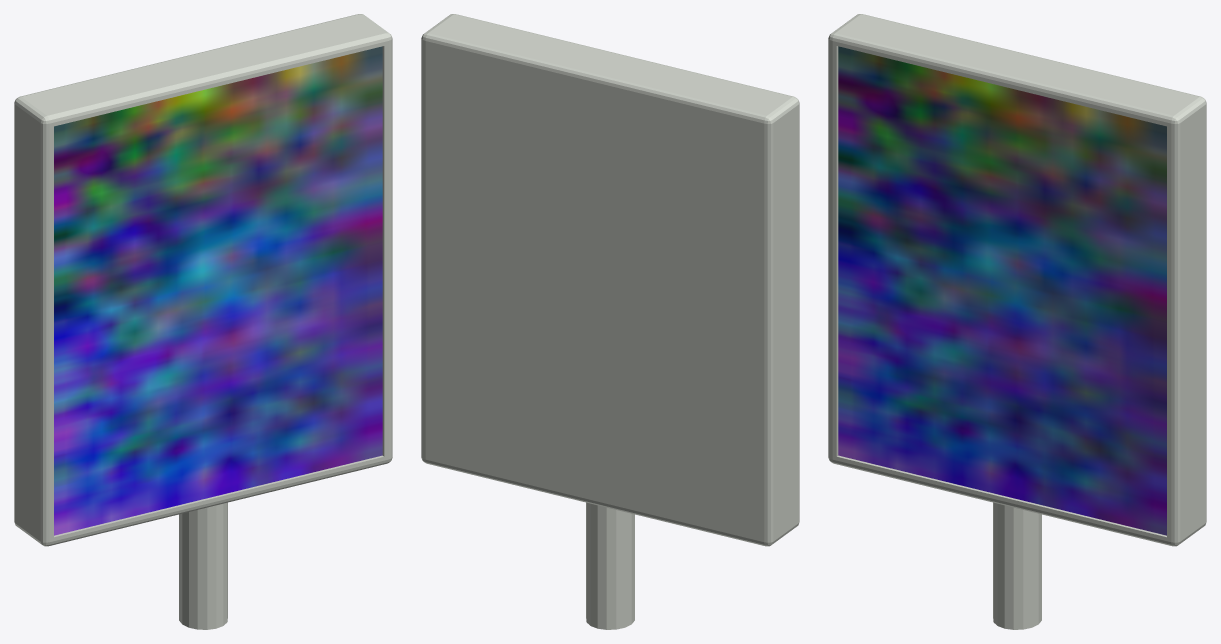
The model's file is SmallBillboard.fbx.
The picture shows the model from 3 angles, left to right: view 1: azimuth 30°, elevation 25°; view 2: azimuth 150°, elevation 25°; view 3: azimuth 330°, elevation 25°; orthographic projection.
Parts seen in each view (by area): view 1: Cylinder; view 2: Cylinder; view 3: Cylinder.
Part boxes in pixels (bbox=[...]): Cylinder: bbox=[14, 14, 392, 629]; Cylinder: bbox=[421, 14, 799, 629]; Cylinder: bbox=[828, 14, 1206, 629].
Size of the model in its own units: 206 by 310 by 31.67.
